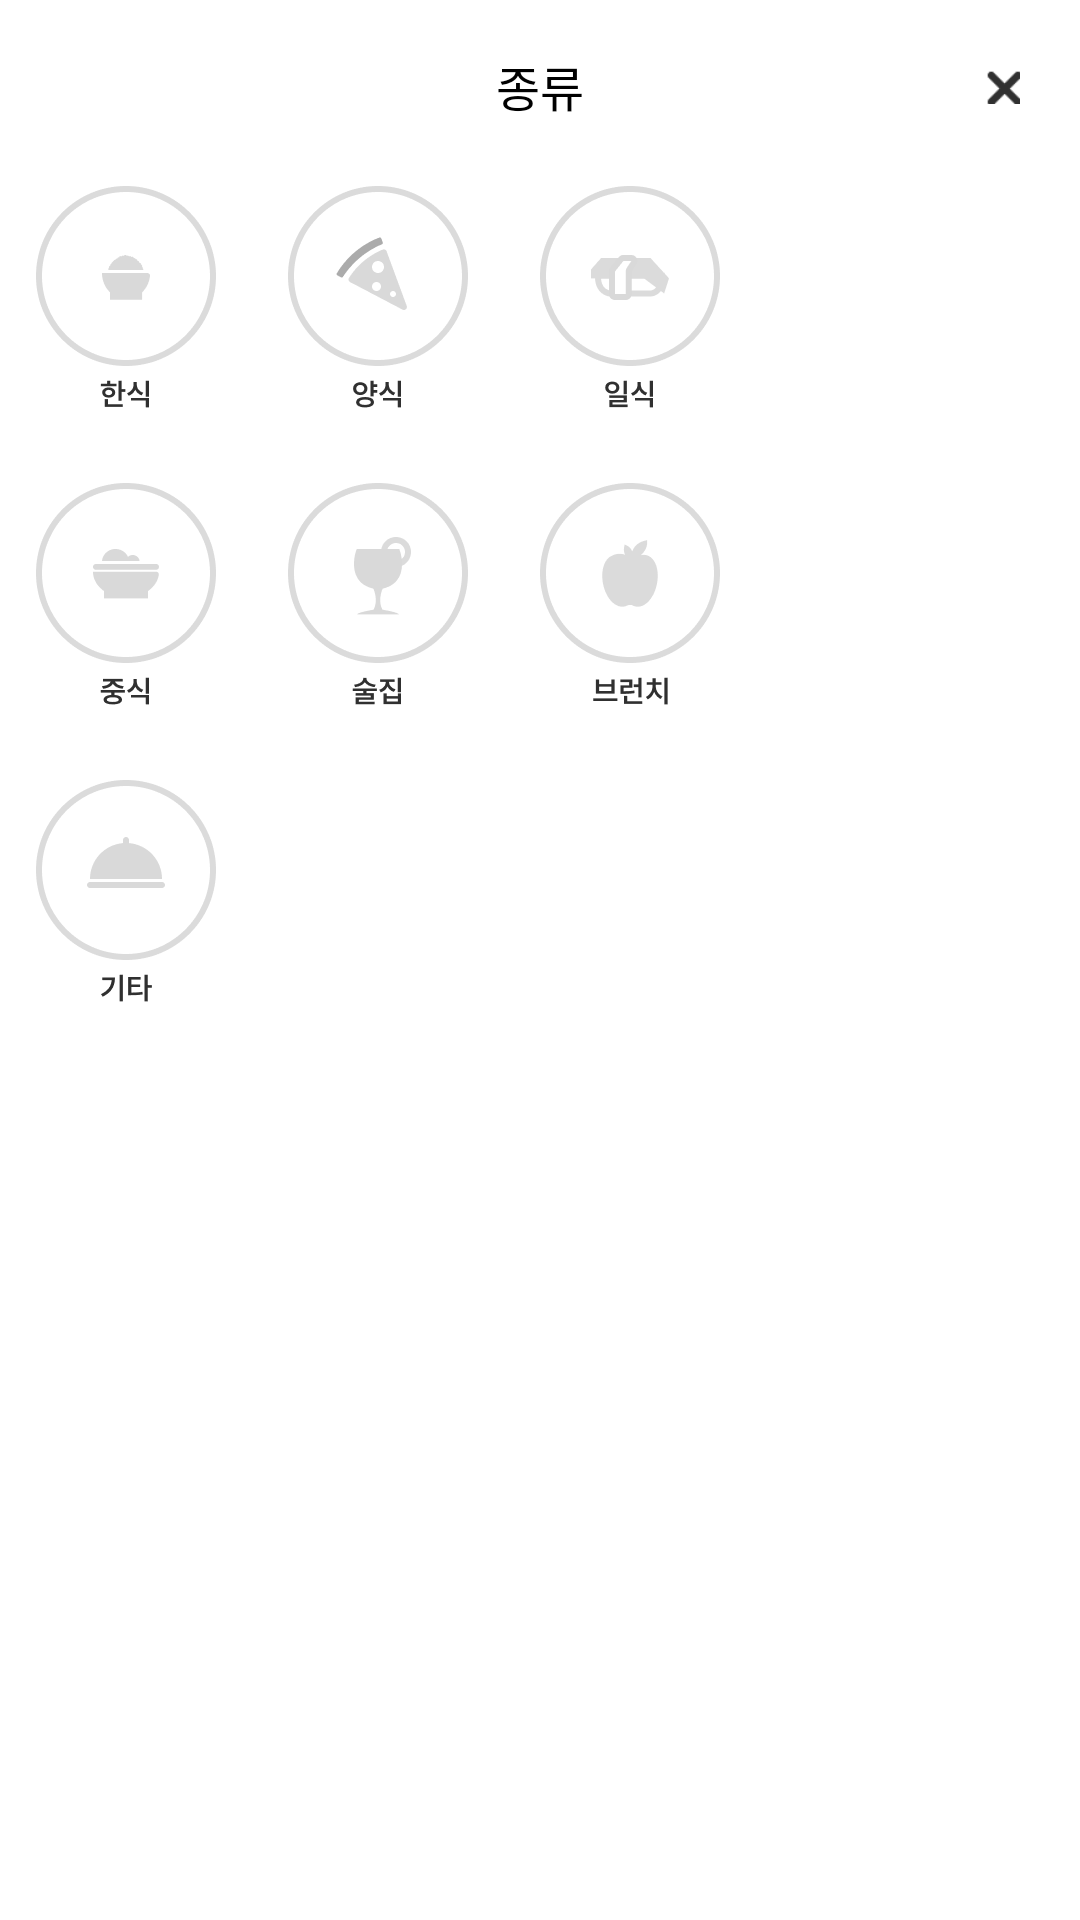

Where to tap for icons on this 1080x1920 app screen, as (x,y):
종료: (1003,87)
